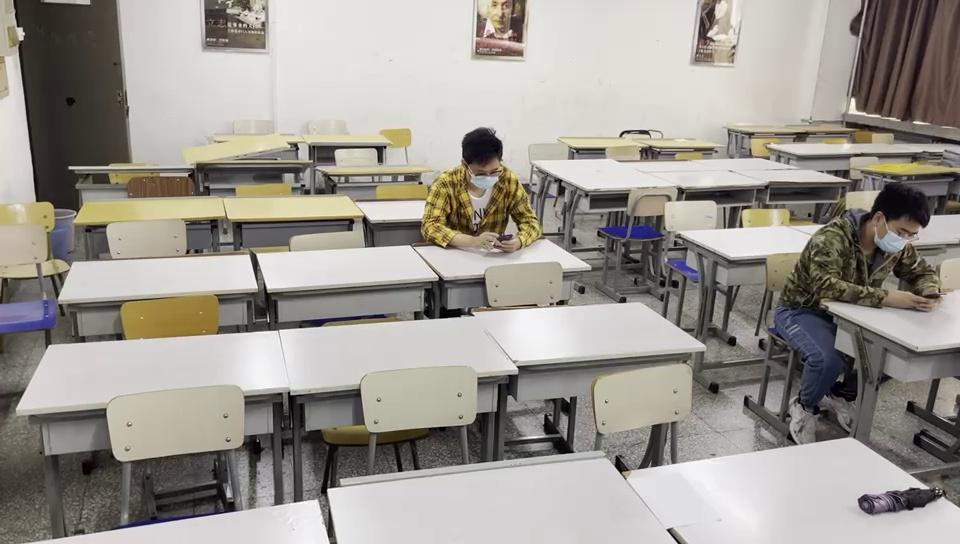phone: (424, 127, 539, 253), (832, 181, 942, 307)
